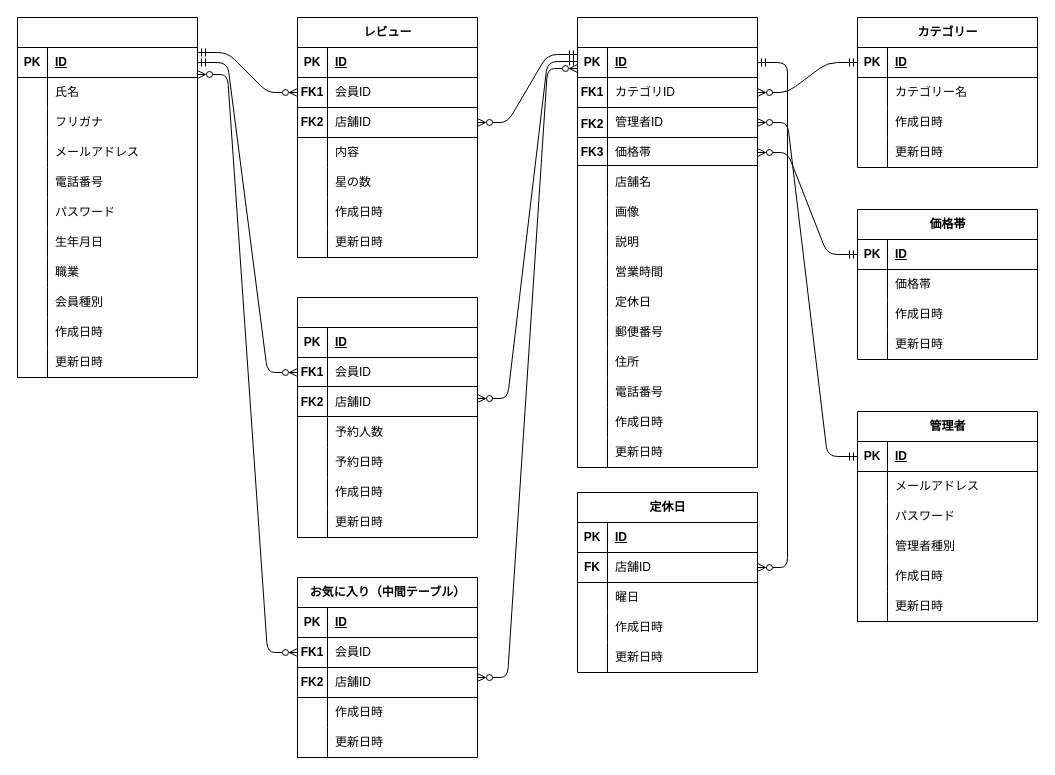
Some shapes in this 1055 by 775 pixel diagram are drawn without their labels. Each missing label, with the box of its shape:
予約: (296, 296, 478, 538)
会員: (16, 16, 198, 378)
店舗: (576, 16, 758, 468)
